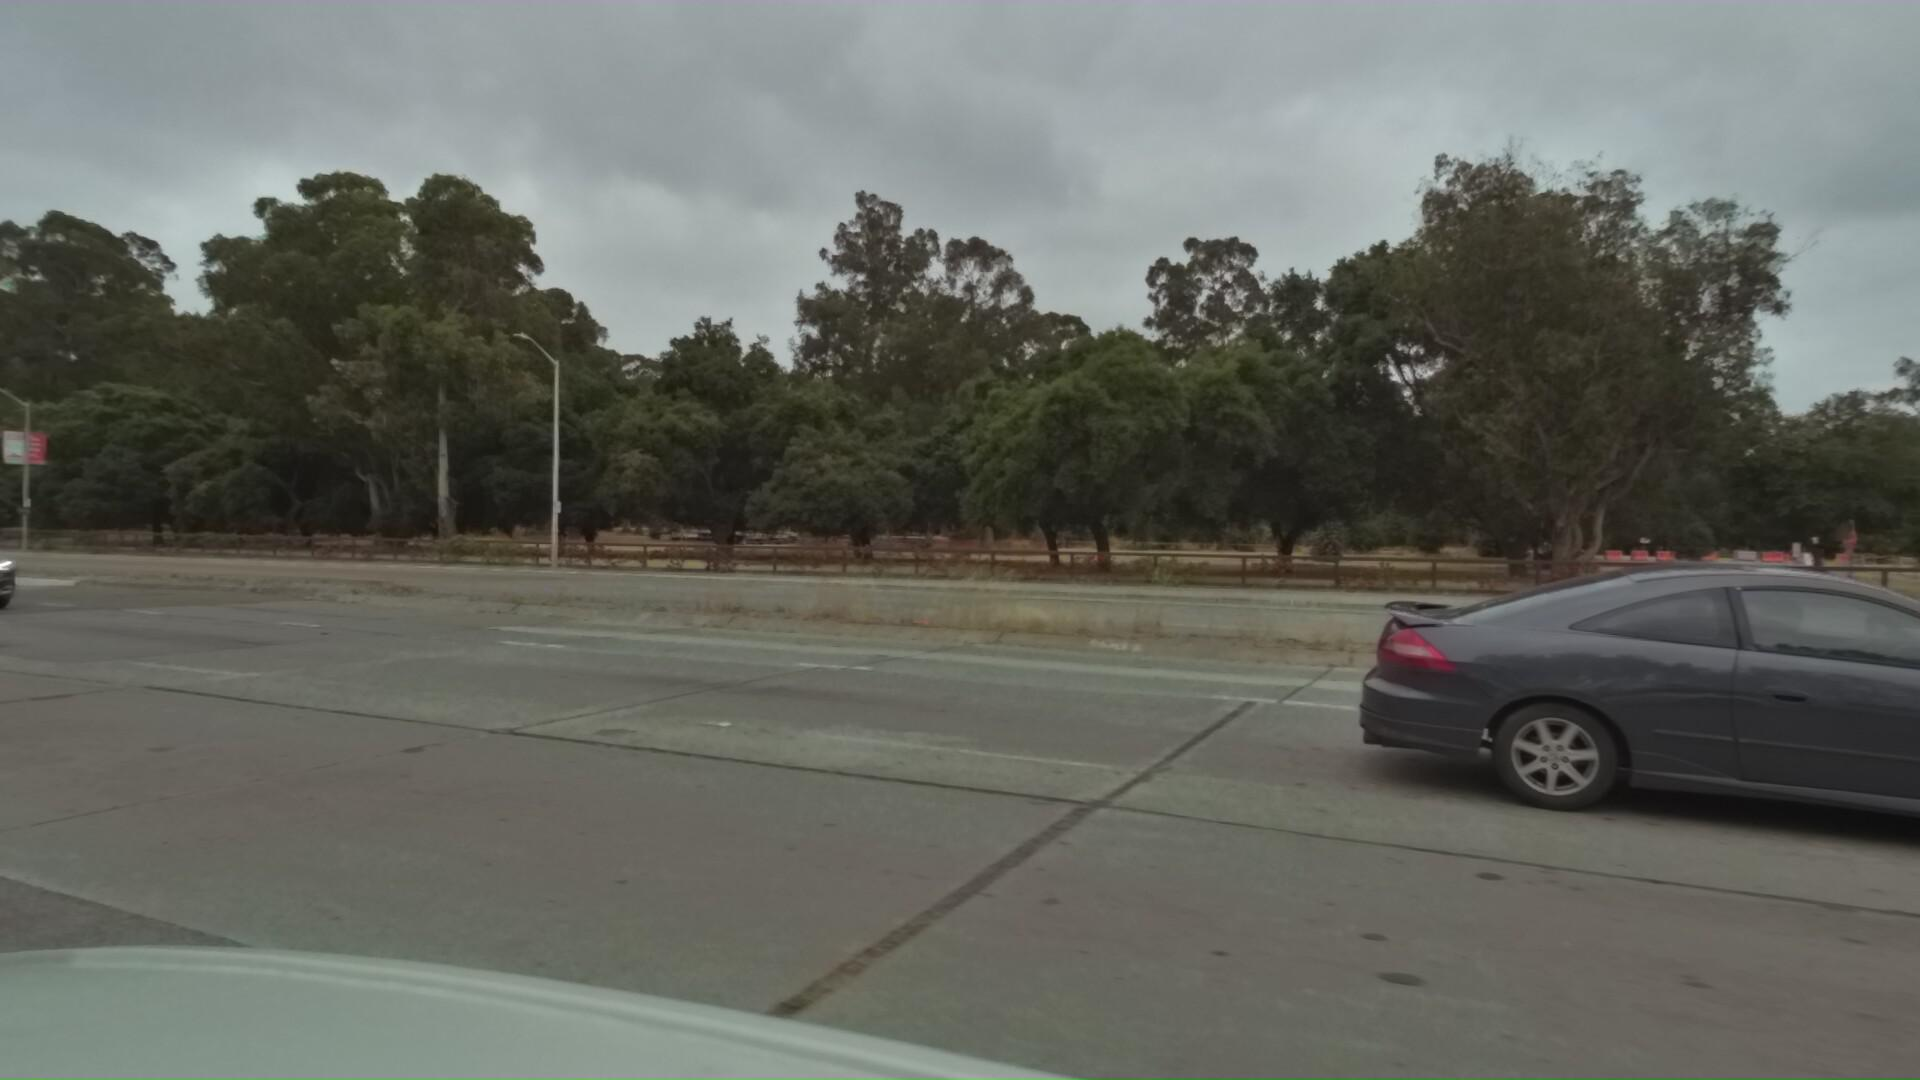car: (1371, 542, 1920, 942), (0, 502, 38, 618)
